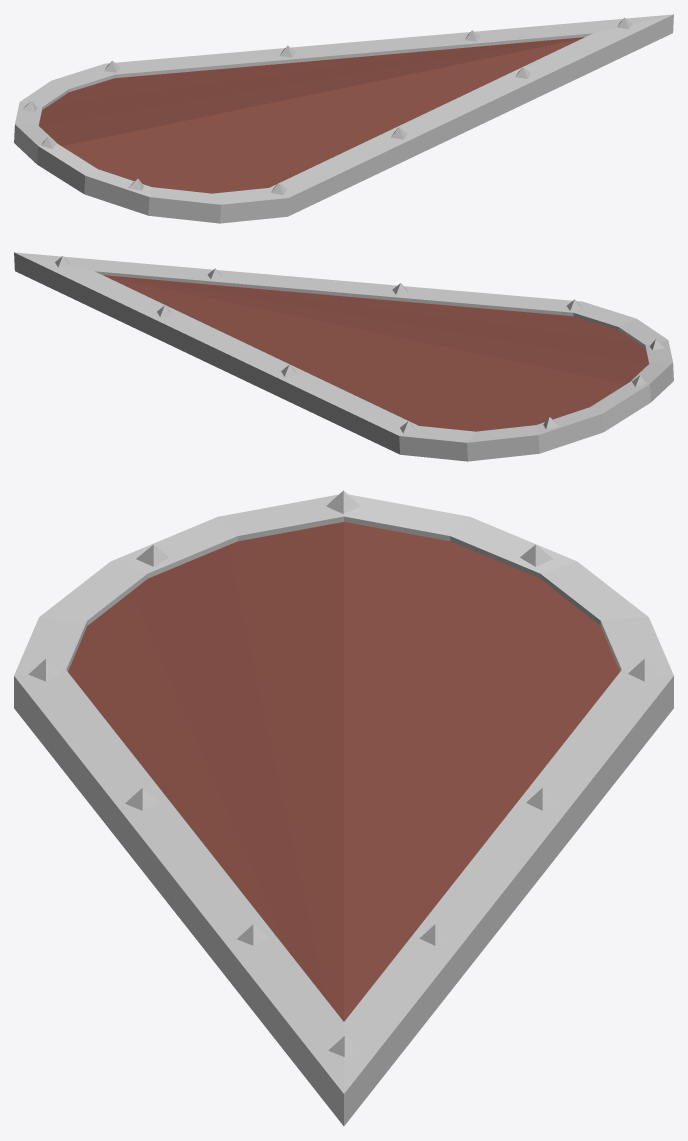
File: Shield_3_b_r.fbx
The picture shows the model from 3 angles, top to bottom: view 1: azimuth 30°, elevation 25°; view 2: azimuth 150°, elevation 25°; view 3: azimuth 270°, elevation 25°; orthographic projection. The views are drawn at different scales.
Visible parts, largest first — view 1: Circle.028, Circle.021; view 2: Circle.028, Circle.021; view 3: Circle.028, Circle.021.
Boxes of the visible parts, left/top/right/bottom form: Circle.028: left=39, top=37, right=584, bottom=193; Circle.021: left=14, top=14, right=673, bottom=223; Circle.028: left=103, top=275, right=648, bottom=431; Circle.021: left=14, top=252, right=673, bottom=461; Circle.028: left=68, top=522, right=619, bottom=1021; Circle.021: left=14, top=494, right=673, bottom=1125.
Size of the model in its own units: 148 by 17.7 by 74.
